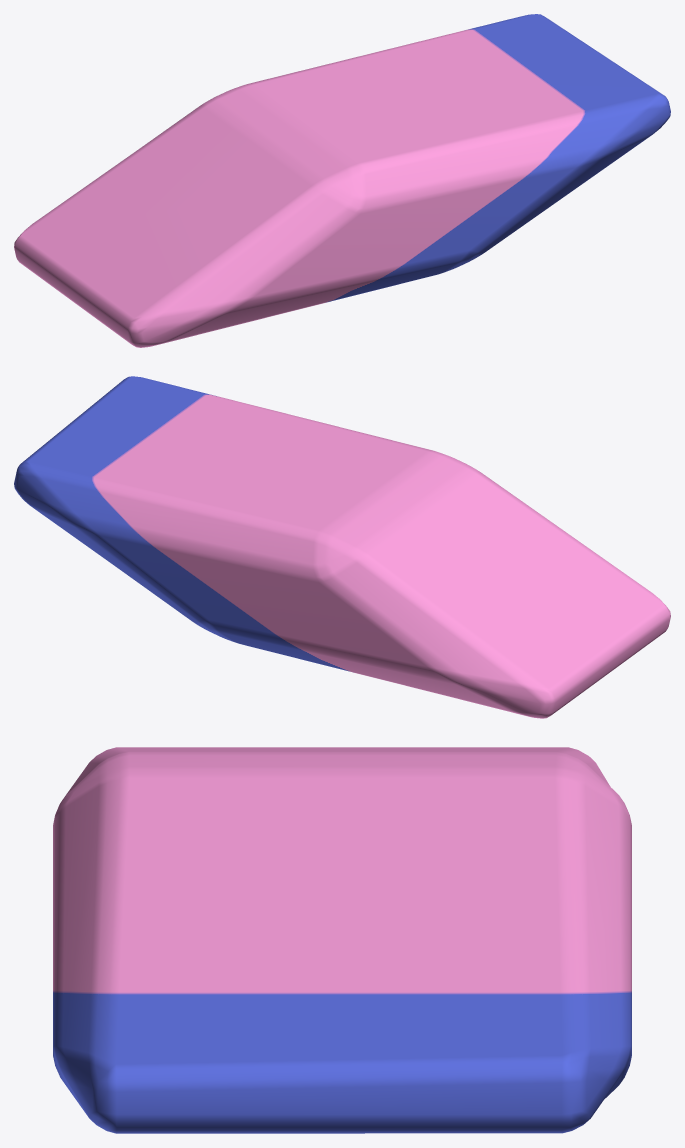
Rendered from rubber.fbx.
The picture shows the model from 3 angles, top to bottom: view 1: azimuth 30°, elevation 25°; view 2: azimuth 150°, elevation 25°; view 3: azimuth 270°, elevation 25°; orthographic projection. The views are drawn at different scales.
Visible parts, largest first — view 1: pCube1; view 2: pCube1; view 3: pCube1.
Boxes of the visible parts, x1=… form: pCube1: x1=14, y1=14, x2=670, y2=347; pCube1: x1=14, y1=376, x2=670, y2=718; pCube1: x1=53, y1=747, x2=631, y2=1133.
Size of the model in its own units: 4.42 by 1 by 2.04.
